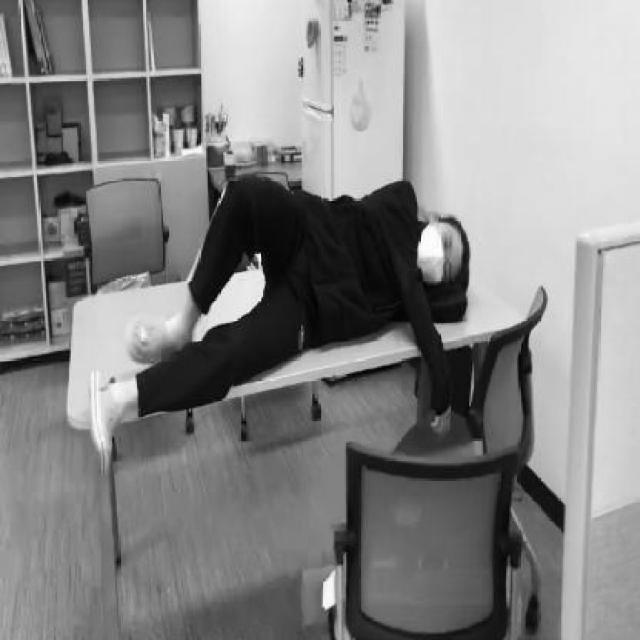person: (77, 167, 472, 446)
